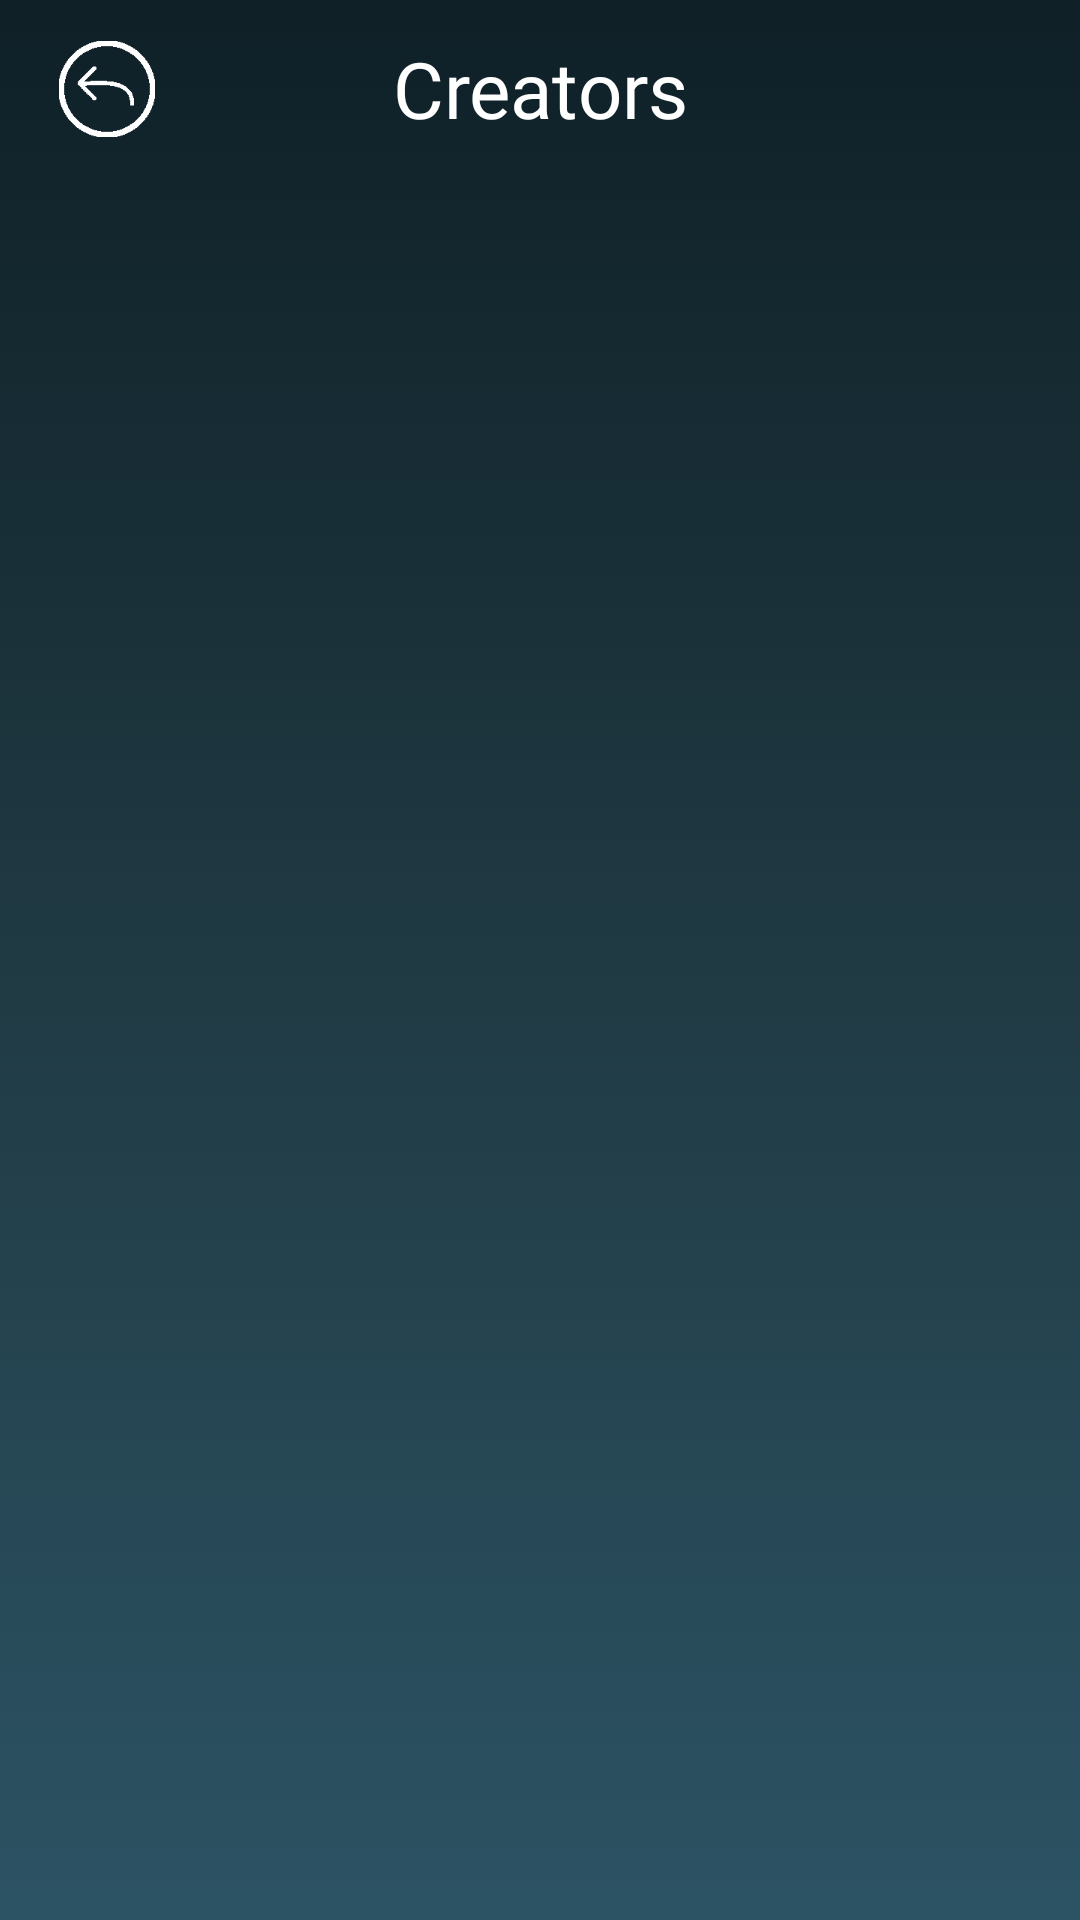

Screen size 1080px x 1920px. Icon name, then its center in pixels as point (x, y):
Back: point (107, 89)
